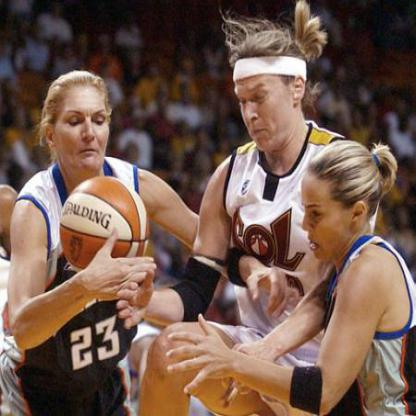face: (229, 36, 295, 154), (292, 155, 356, 264), (51, 75, 111, 176)
